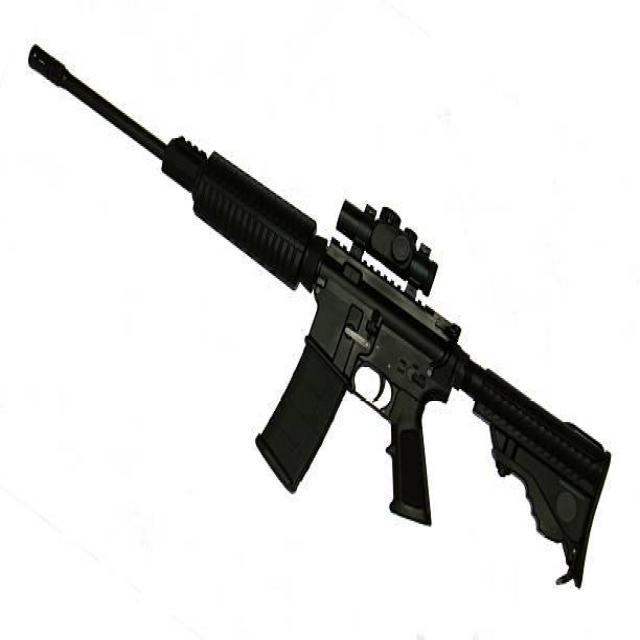weapon: (28, 41, 612, 592)
